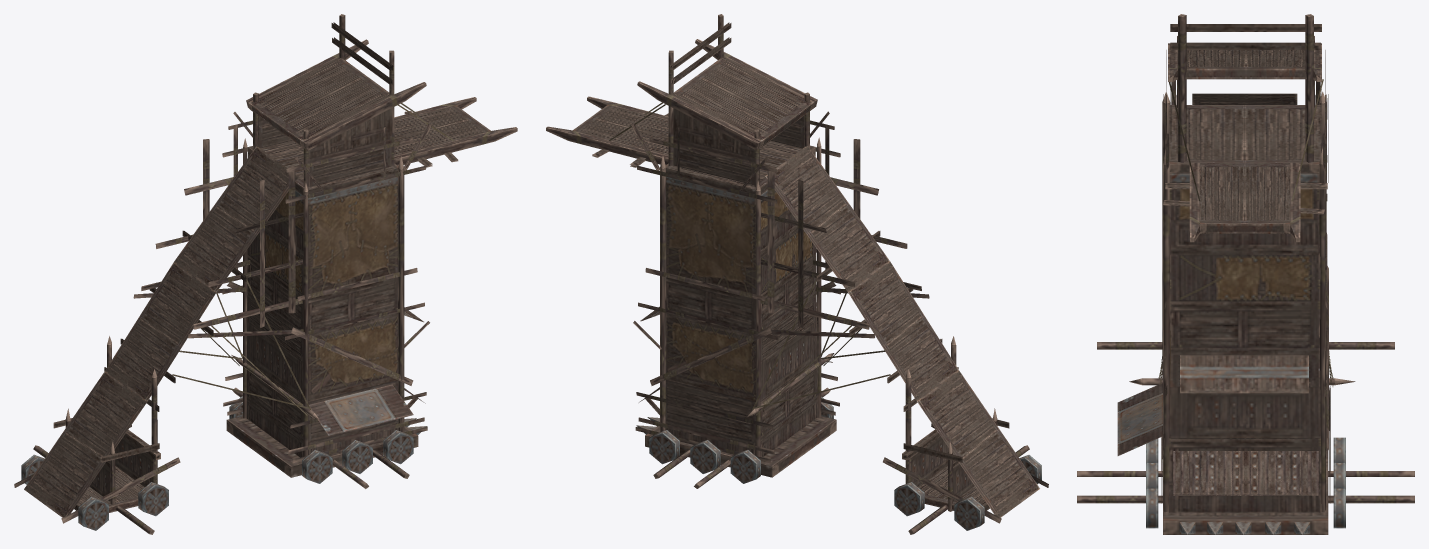
Rendered from i_xz_yunti01_lod2.FBX.
3 views of the same model, side by side, from view 1: azimuth 30°, elevation 25°; view 2: azimuth 150°, elevation 25°; view 3: azimuth 270°, elevation 25° (orthographic). The views are drawn at different scales.
Parts seen in each view (by area): view 1: i_xz_yunti01_lod2; view 2: i_xz_yunti01_lod2; view 3: i_xz_yunti01_lod2.
Part boxes in pixels (x1,y1,x2,y2): i_xz_yunti01_lod2: (14, 14, 517, 534); i_xz_yunti01_lod2: (546, 14, 1048, 534); i_xz_yunti01_lod2: (1077, 14, 1414, 534).
Size of the model in its own units: 32.46 by 27.15 by 16.11.
1 material, 1 textured.
